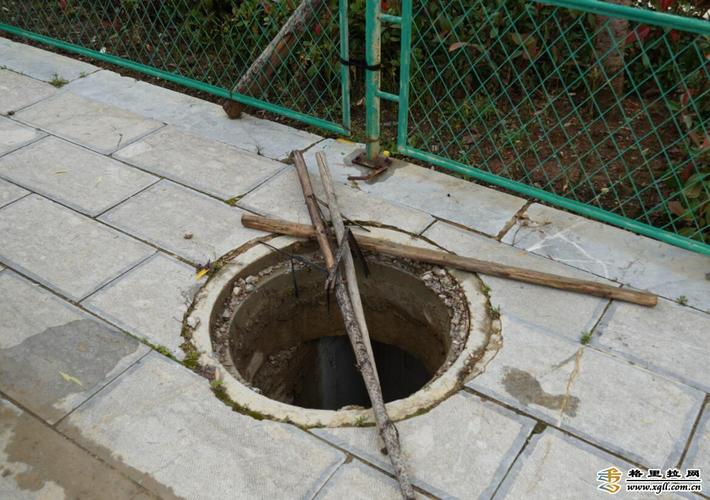lose: (193, 212, 500, 421)
